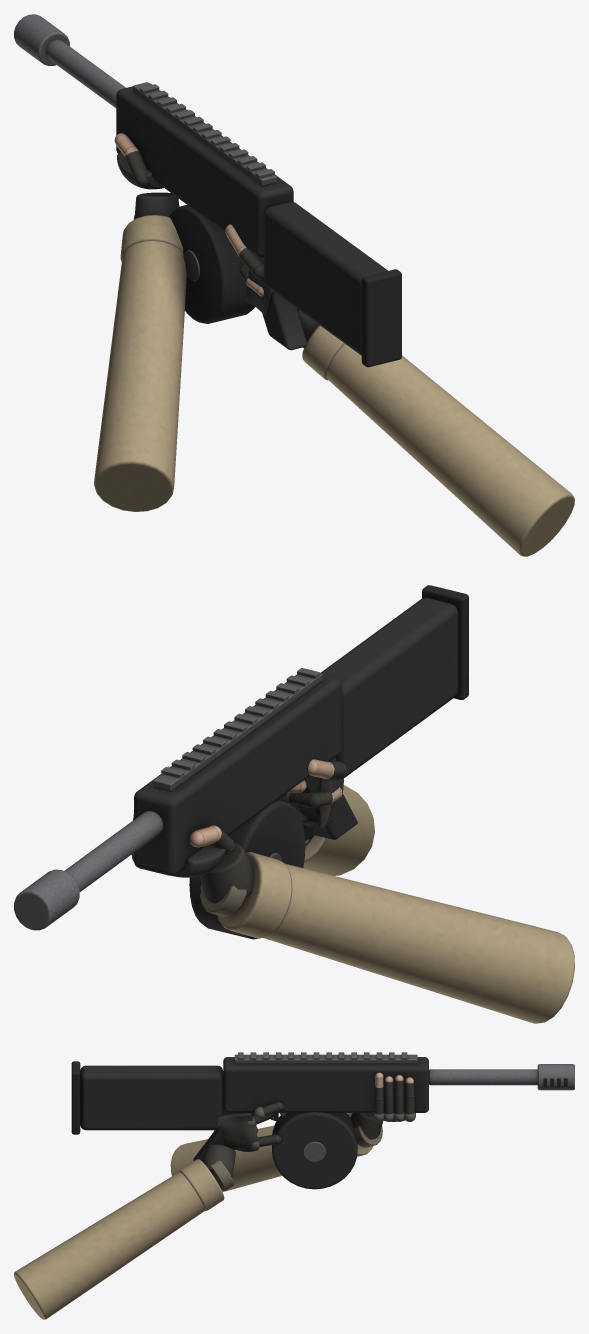
File: hagl.glb
3 views of the same model, one above another, from view 1: azimuth 30°, elevation 25°; view 2: azimuth 150°, elevation 25°; view 3: azimuth 270°, elevation 25° (orthographic). The views are drawn at different scales.
Visible parts, largest first — view 1: hænder, hagl; view 2: hagl, hænder; view 3: hagl, hænder.
Part boxes in pixels (box(x1,y1,x2,y2)): hænder: box(94, 109, 574, 556); hagl: box(14, 14, 401, 367); hagl: box(14, 585, 468, 939); hænder: box(131, 757, 574, 1023); hagl: box(71, 1052, 574, 1189); hænder: box(14, 1072, 415, 1319).
Bounding box in the file's own units: 0.5162 × 0.4215 × 0.9808.
2 materials, 2 textured.
